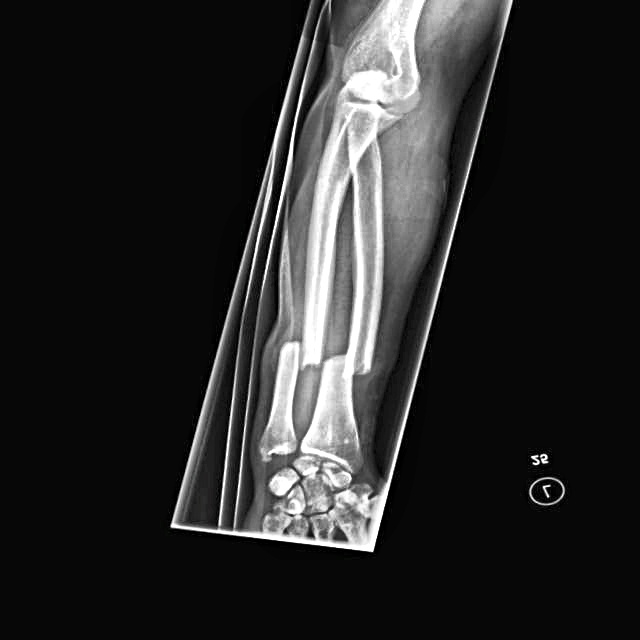Transverse: (275, 330, 327, 384), (322, 343, 382, 387)
